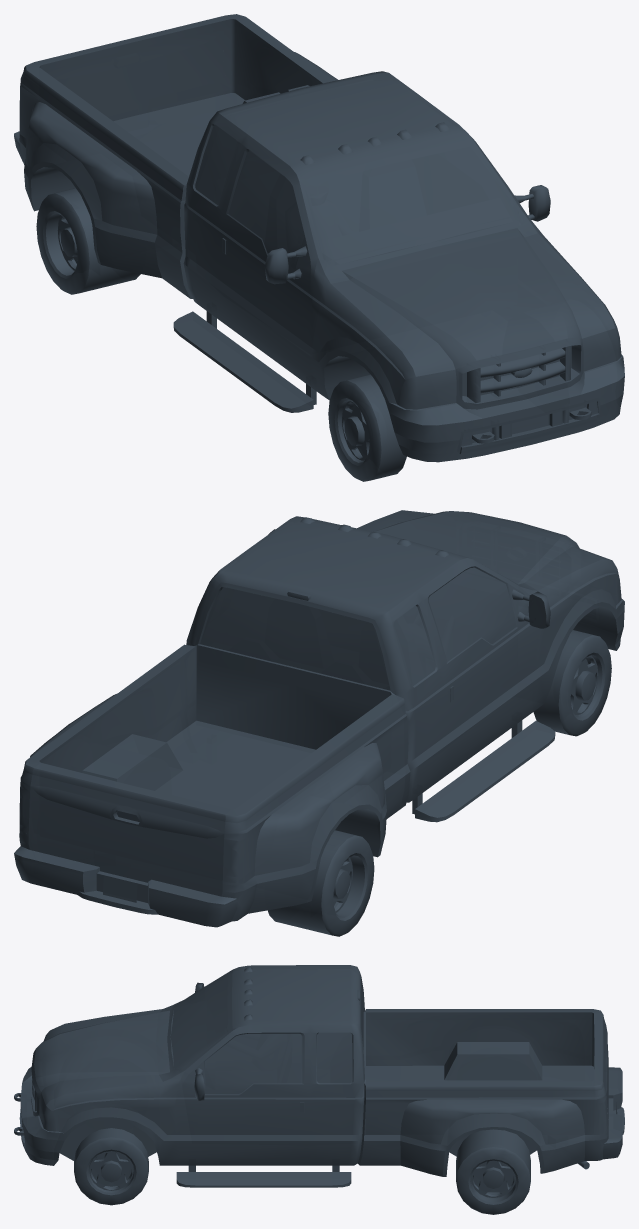
3 views of the same model, one above another, from view 1: azimuth 30°, elevation 25°; view 2: azimuth 150°, elevation 25°; view 3: azimuth 270°, elevation 25° (orthographic). The views are drawn at different scales.
Parts seen in each view (by area): view 1: tree_node_13c7ac, WHEEL_STATIC_0x13ca1c, WHEEL_STATIC_0x13c8ac; view 2: tree_node_13c7ac, WHEEL_STATIC_0x13c8ac, WHEEL_STATIC_0x13ca1c; view 3: tree_node_13c7ac, WHEEL_STATIC_0x13c964, WHEEL_STATIC_0x13cad4.
Boxes of the visible parts, x1=… form: tree_node_13c7ac: x1=14, y1=14, x2=624, y2=462; WHEEL_STATIC_0x13ca1c: x1=328, y1=374, x2=406, y2=481; WHEEL_STATIC_0x13c8ac: x1=36, y1=188, x2=140, y2=294; tree_node_13c7ac: x1=14, y1=510, x2=624, y2=927; WHEEL_STATIC_0x13c8ac: x1=267, y1=830, x2=374, y2=936; WHEEL_STATIC_0x13ca1c: x1=533, y1=630, x2=611, y2=736; tree_node_13c7ac: x1=14, y1=965, x2=624, y2=1187; WHEEL_STATIC_0x13c964: x1=456, y1=1129, x2=530, y2=1214; WHEEL_STATIC_0x13cad4: x1=74, y1=1128, x2=148, y2=1205.
Bounding box in the file's own units: 2.54 × 2.03 × 6.42.
